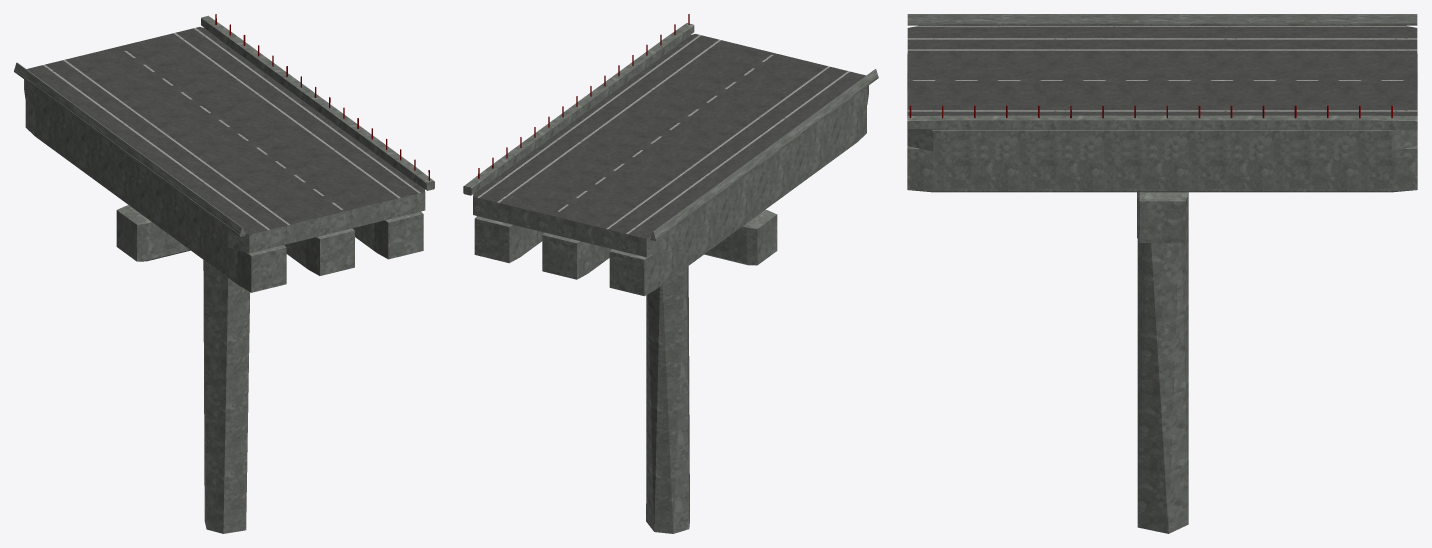
The model's file is bridge-highway.glb.
The picture shows the model from 3 angles, left to right: view 1: azimuth 30°, elevation 25°; view 2: azimuth 150°, elevation 25°; view 3: azimuth 270°, elevation 25°; orthographic projection. The views are drawn at different scales.
Parts seen in each view (by area): view 1: structure1.001; view 2: structure1.001; view 3: structure1.001.
Boxes of the visible parts, x1,y1,x2,y2 form: structure1.001: [14, 14, 434, 533]; structure1.001: [463, 14, 878, 533]; structure1.001: [907, 14, 1417, 533].
Bounding box in the file's own units: 10 × 20.21 × 20.
4 materials, 3 textured.
